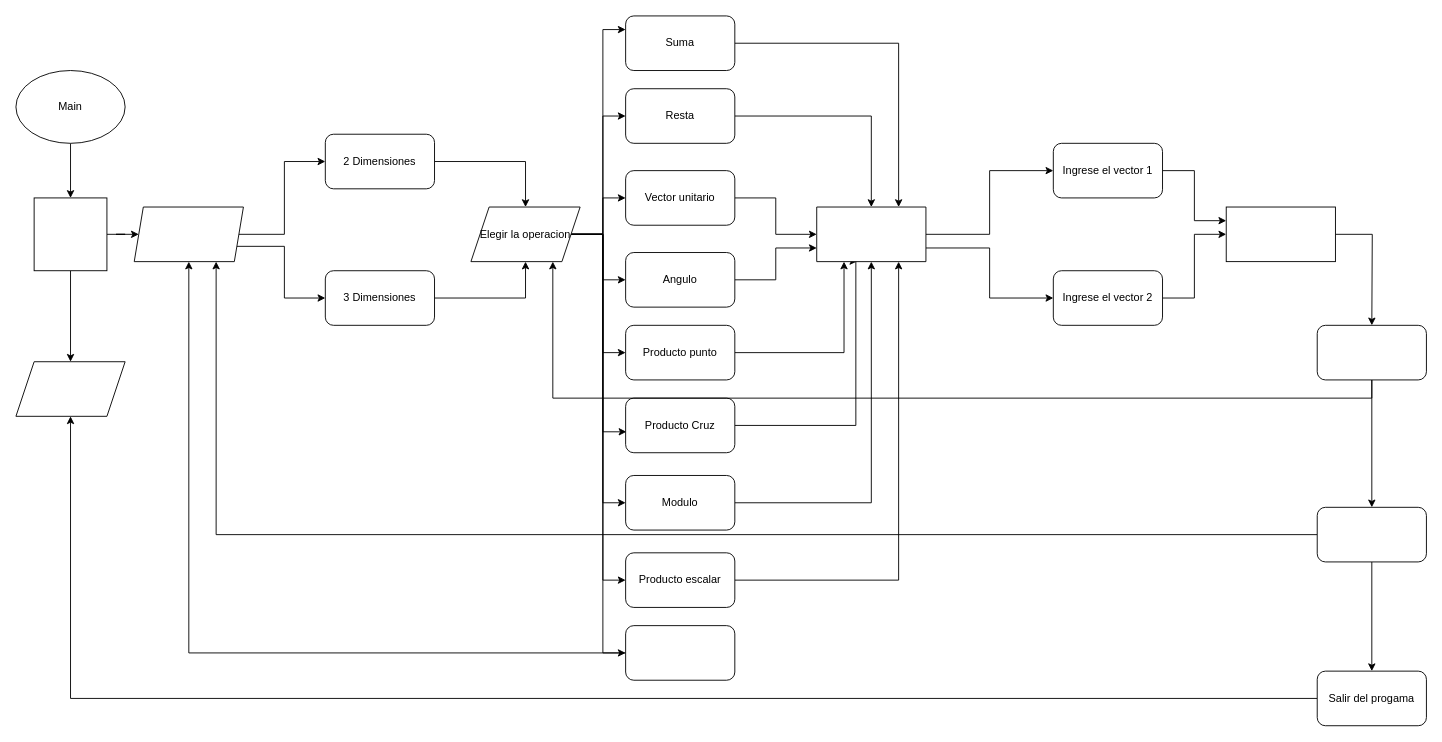
The diagram is 1442 pixels wide and 742 high, and some of its shapes have lost their labels. The shapes that lost their labels are listed below. From the top down, each one's centre as x and y in pixels, then its label:
the point at 70,234: Opciones
the point at 188,234: Elegir dimension de vector
the point at 871,234: Operación seleccionada:
the point at 1280,234: El resultado es:
the point at 1371,352: Desea realizar otra operación?
the point at 70,388: Salida del progama
the point at 1371,534: Cambiar dimensión del vector
the point at 680,652: Volver a la selección de dimensión
